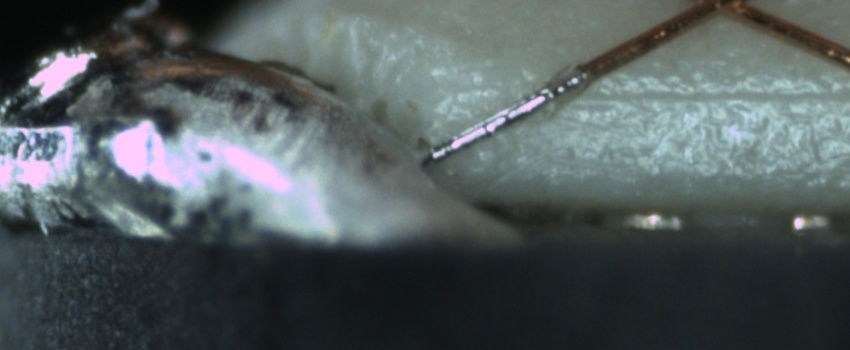CL: (688, 0, 762, 20)
DL: (449, 68, 850, 124)
TS: (430, 70, 584, 156)
